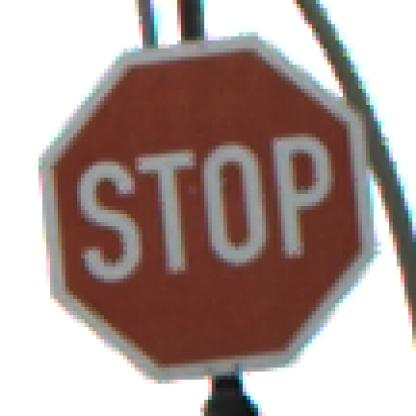Stop: (52, 40, 363, 372)
